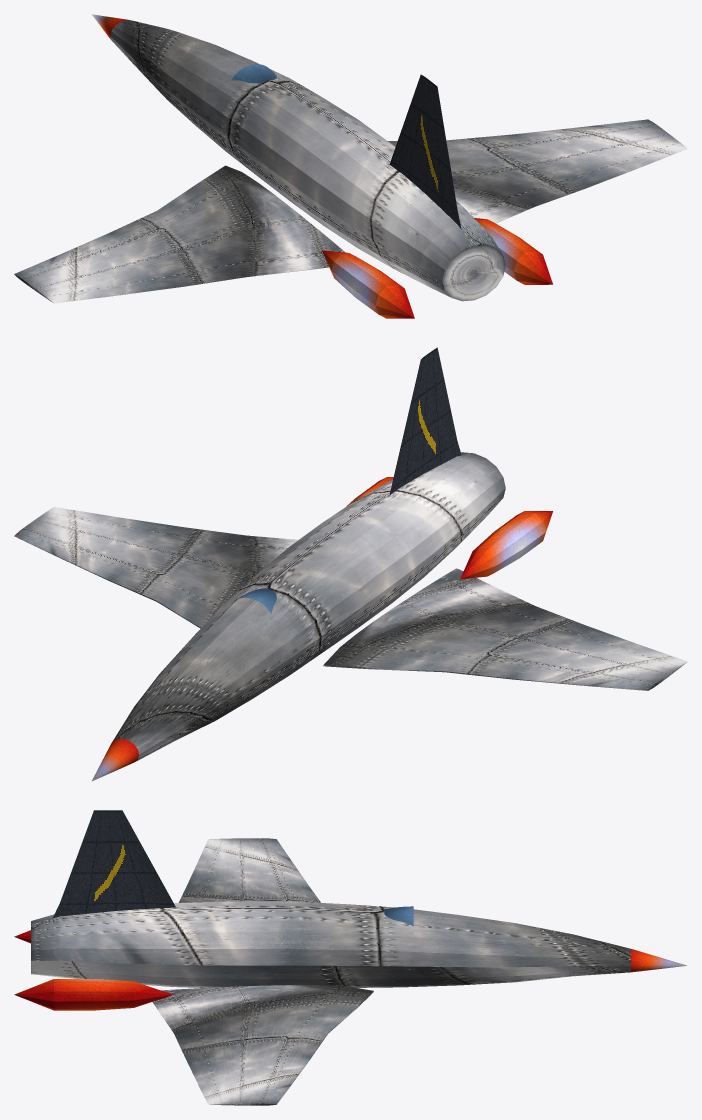
Rendered from starship-png1.obj.
3 renders of one model, top to bottom at view 1: azimuth 30°, elevation 25°; view 2: azimuth 150°, elevation 25°; view 3: azimuth 270°, elevation 25°, orthographic. The views are drawn at different scales.
Parts seen in each view (by area): view 1: fuselage, wings, engines, fin, cockpit; view 2: wings, fuselage, fin, engines, tailcap; view 3: fuselage, wings, fin, engines, tailcap.
Boxes of the visible parts, bbox=[...] form: fuselage: bbox=[110, 20, 505, 301]; wings: bbox=[14, 119, 687, 303]; engines: bbox=[322, 218, 552, 318]; fin: bbox=[389, 74, 461, 229]; cockpit: bbox=[231, 64, 276, 83]; wings: bbox=[14, 507, 687, 690]; fuselage: bbox=[112, 452, 505, 761]; fin: bbox=[389, 347, 461, 494]; engines: bbox=[346, 477, 552, 579]; tailcap: bbox=[92, 738, 138, 781]; fuselage: bbox=[31, 901, 630, 987]; wings: bbox=[152, 838, 373, 1105]; fin: bbox=[52, 810, 175, 918]; engines: bbox=[14, 930, 173, 1010]; tailcap: bbox=[631, 949, 686, 972].
Bounding box in the file's own units: 1.1 × 0.335 × 1.18.
